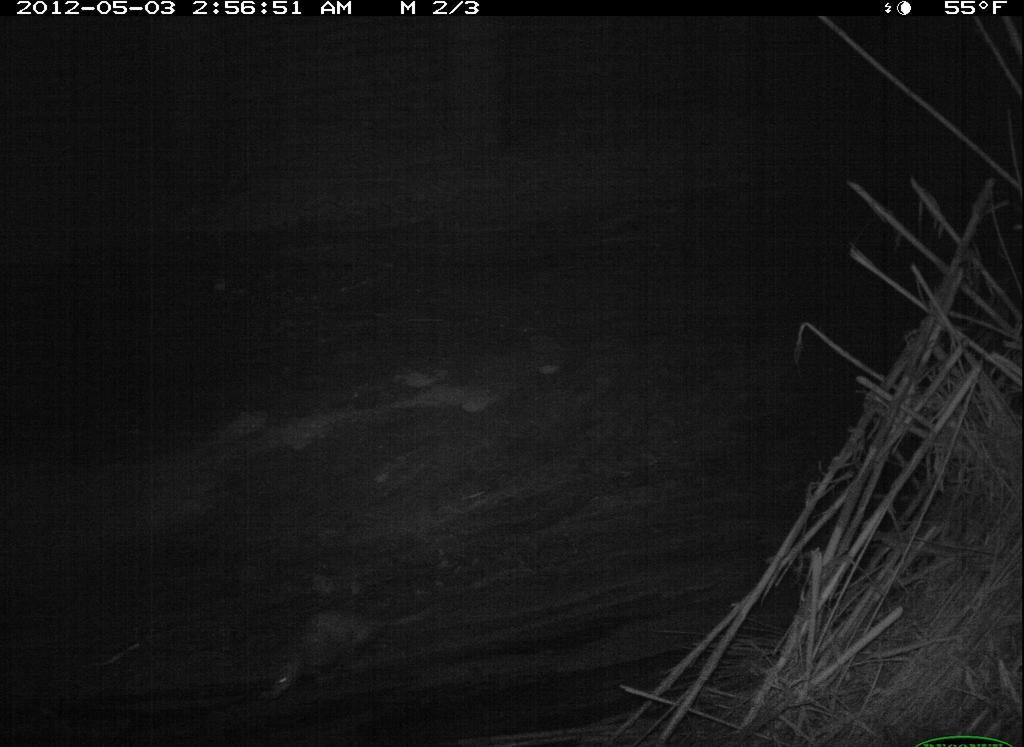opossum: (244, 565, 441, 713)
